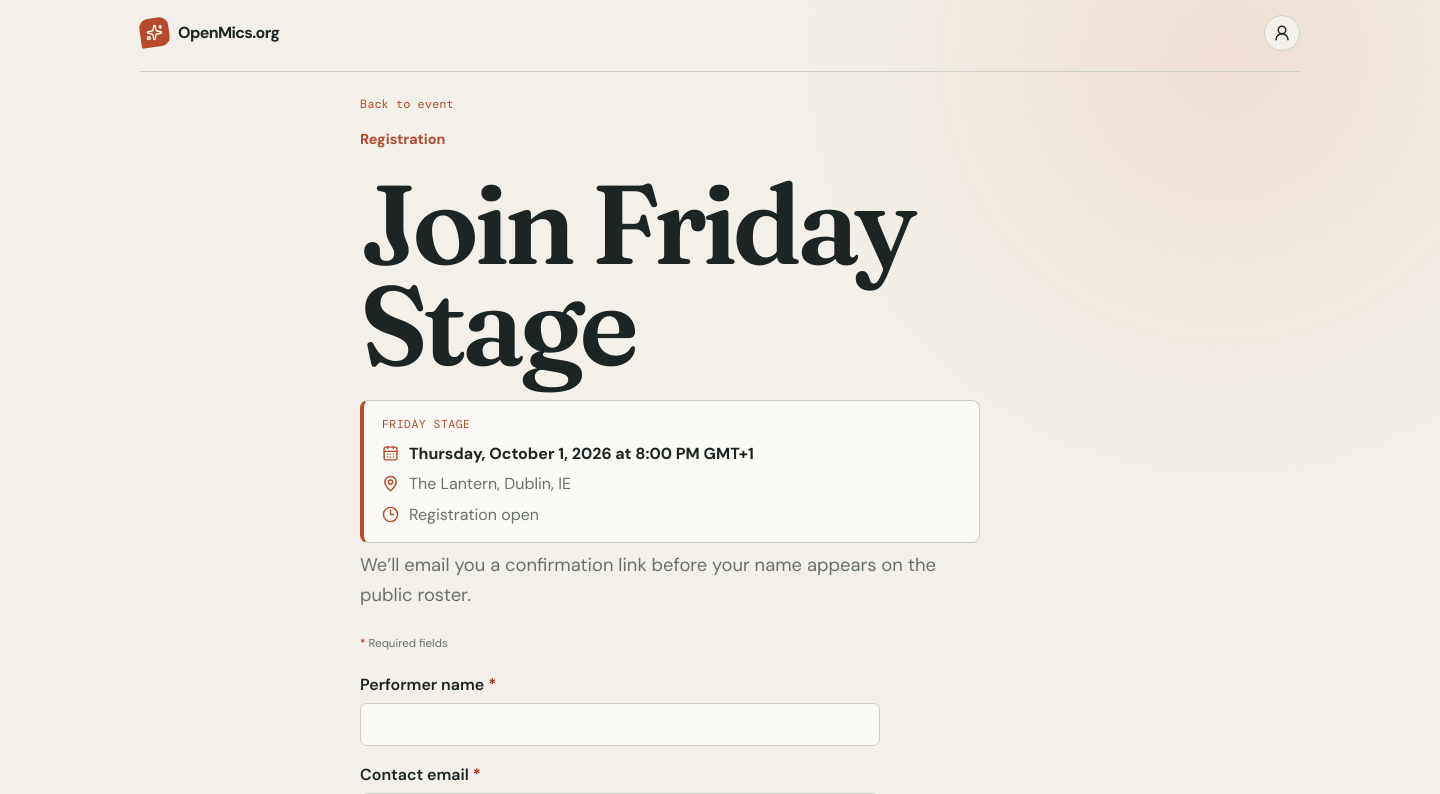
Test: RegistrationPage › submits a valid guest registration and shows the confirmation state
Type "Ava Quinn" into the field labelled "Performer name *" at (620, 725), box [360, 703, 880, 746]
(page scrolled)
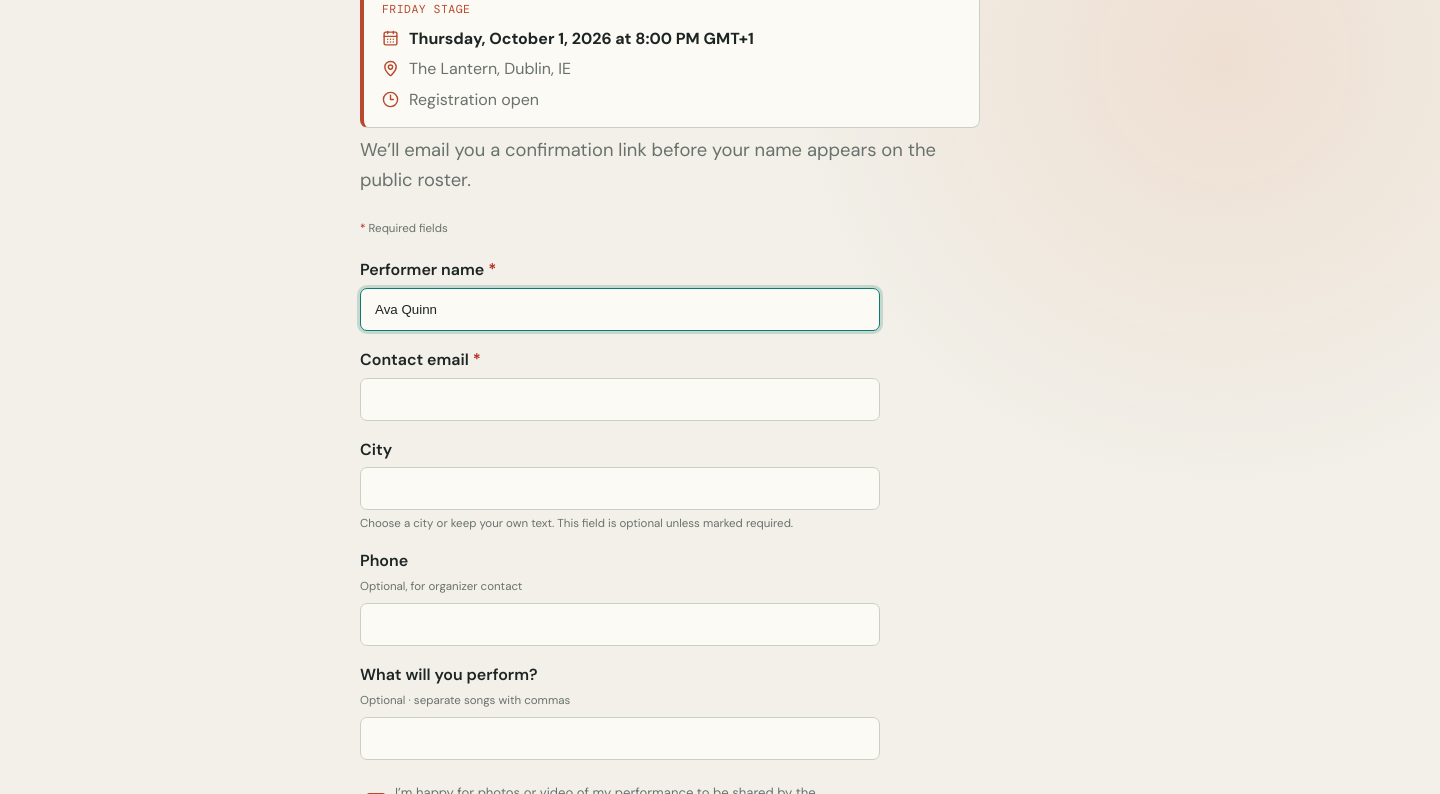
Type "ava@example.test" into the field labelled "Contact email *" at (620, 400), box [360, 378, 880, 421]
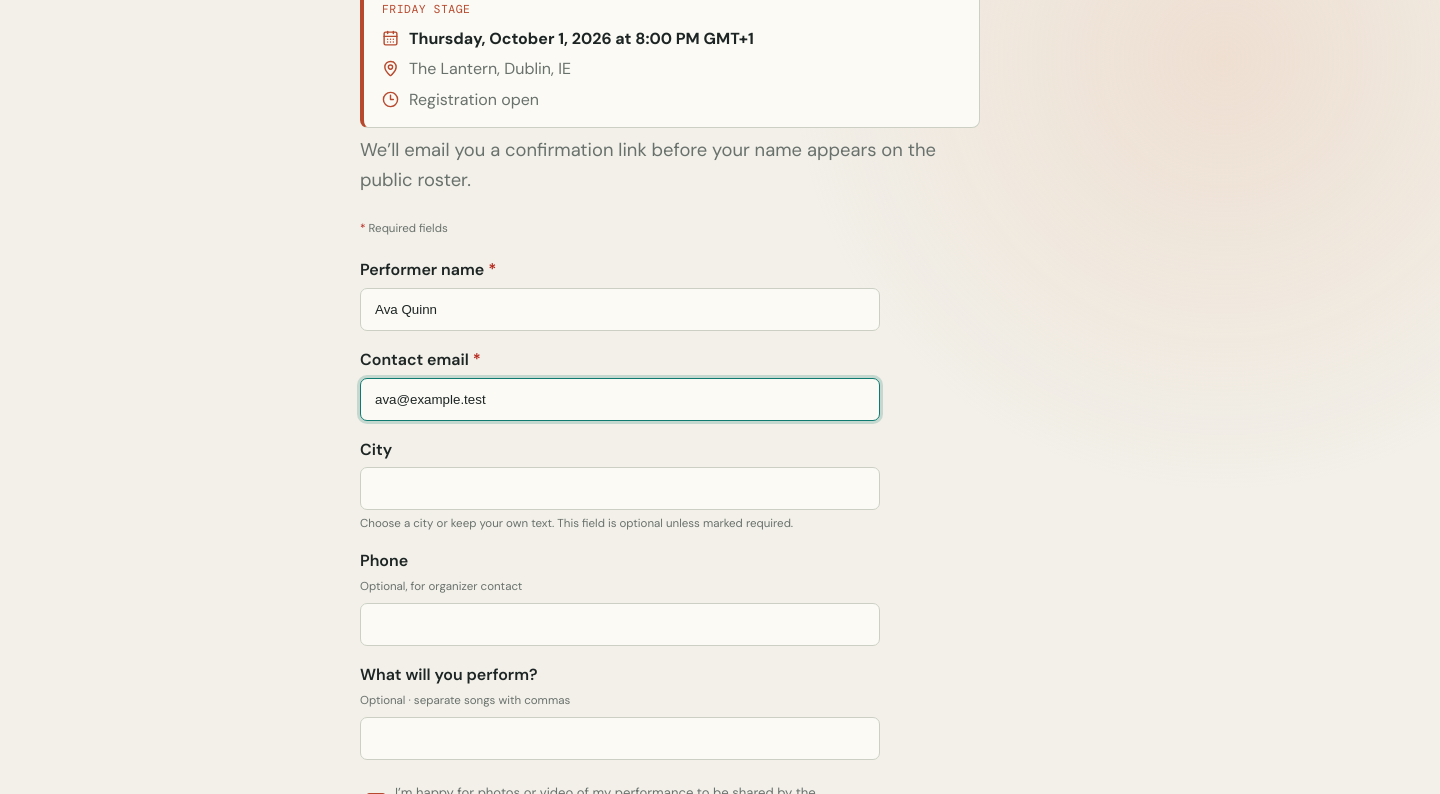
Type "Dub" into the dropdown labelled "City" at (620, 488), box [360, 466, 880, 510]
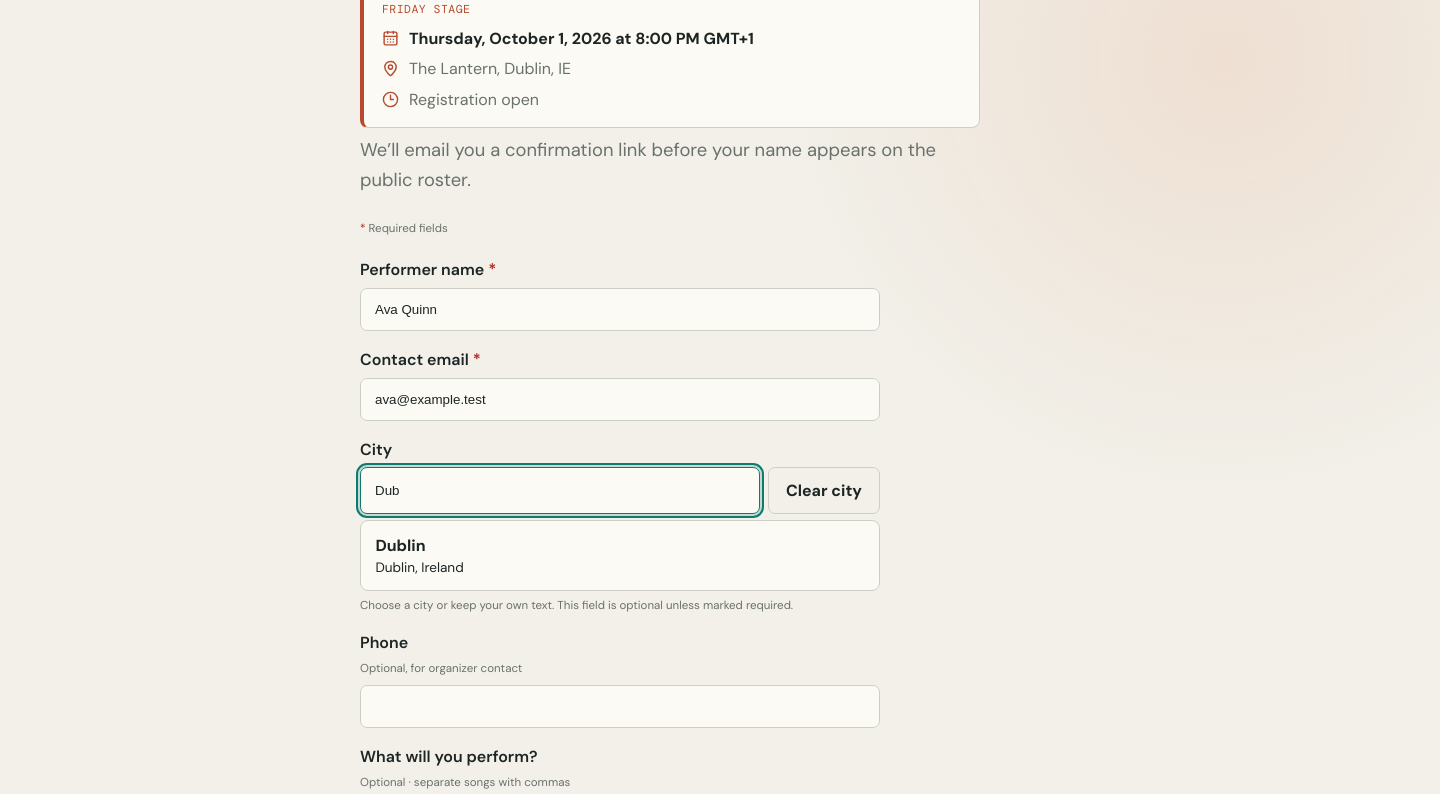
Click the option "Dublin Dublin, Ireland" at (420, 556), box [375, 535, 464, 576]
(page scrolled)
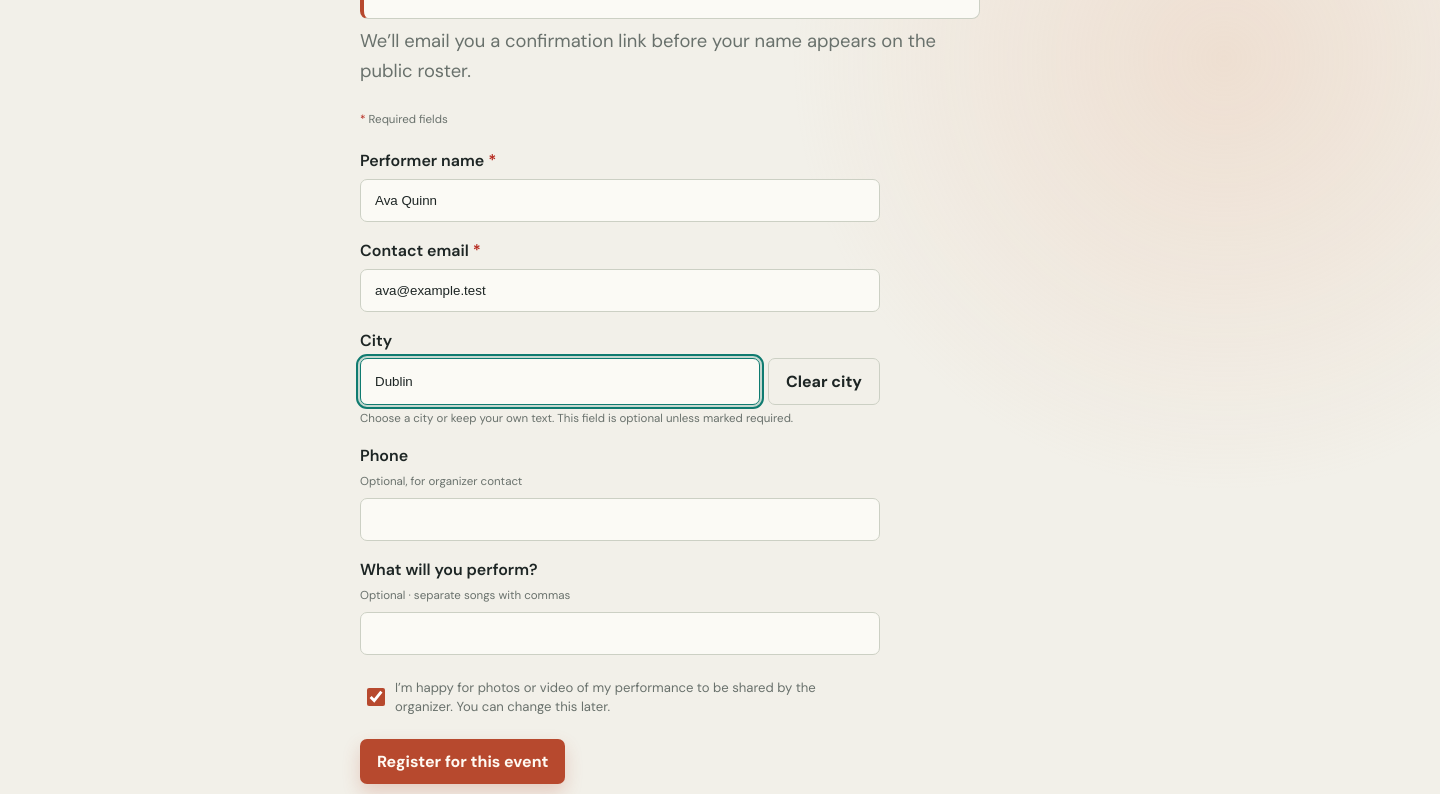
Click the button "Register for this event" at (463, 762), box [360, 739, 566, 784]
(page scrolled)
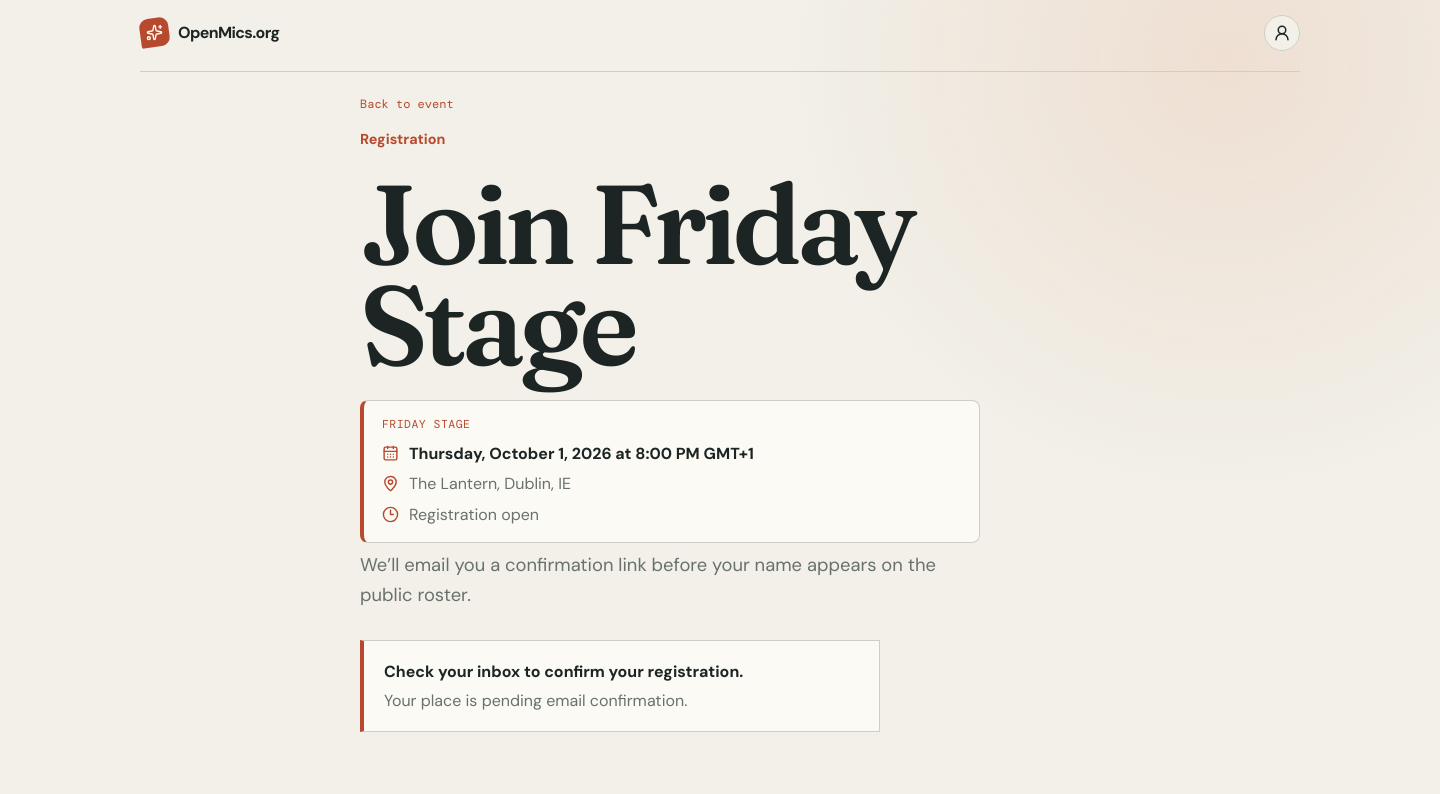
Result: the message shows "Check your inbox to confirm your registration." at [384, 661, 743, 682]
